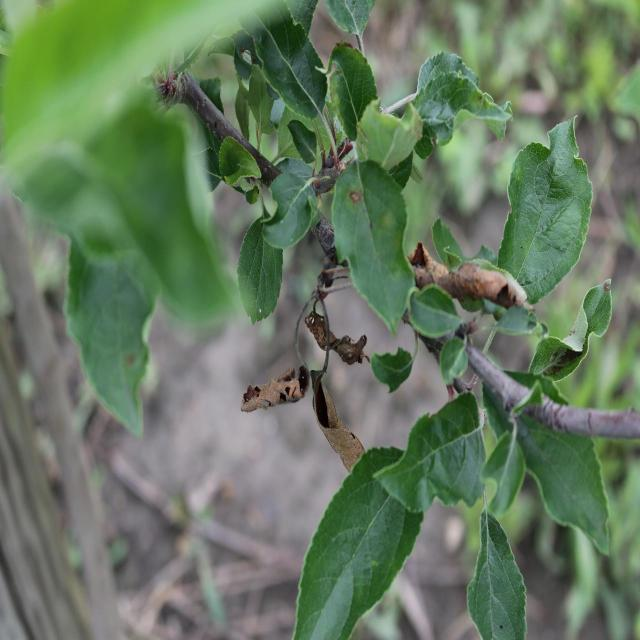-FireBlight-: (241, 260, 371, 478), (409, 239, 535, 313)
